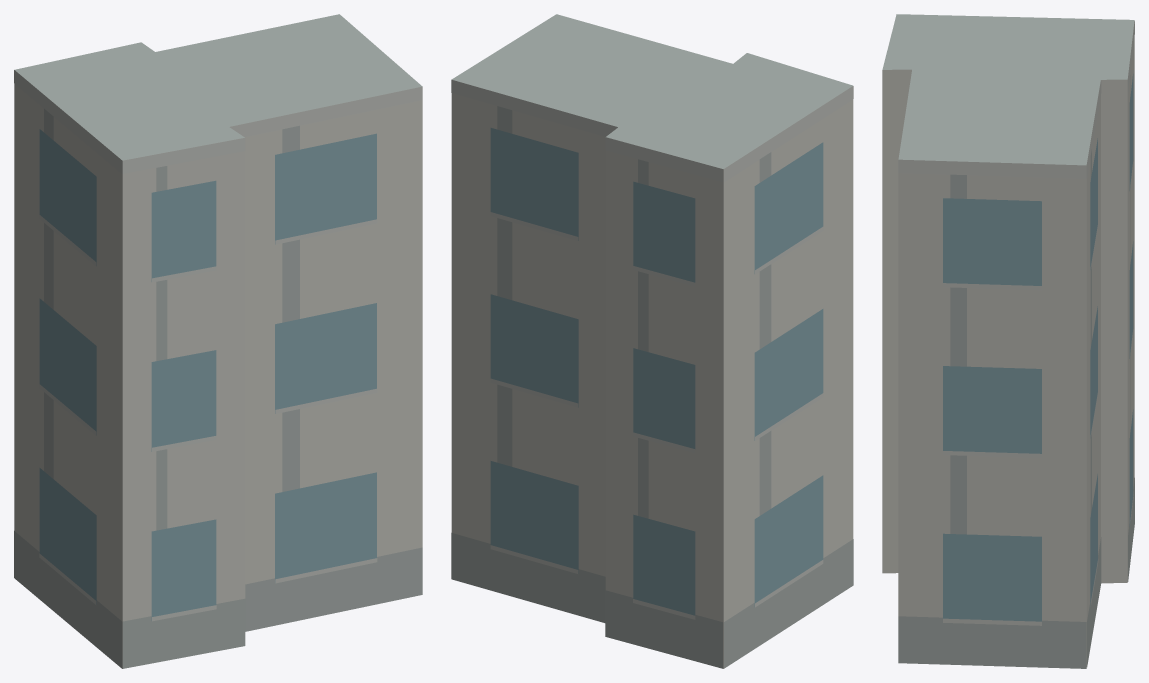
The model's file is survey-upis-32878621.glb.
The picture shows the model from 3 angles, left to right: view 1: azimuth 30°, elevation 25°; view 2: azimuth 150°, elevation 25°; view 3: azimuth 270°, elevation 25°; orthographic projection.
Visible parts, largest first — view 1: survey-upis-32878621.tmp; view 2: survey-upis-32878621.tmp; view 3: survey-upis-32878621.tmp.
Boxes of the visible parts, left/top/right/bottom form: survey-upis-32878621.tmp: left=14, top=14, right=422, bottom=668; survey-upis-32878621.tmp: left=451, top=14, right=853, bottom=668; survey-upis-32878621.tmp: left=882, top=14, right=1134, bottom=668.
Bounding box in the file's own units: 5.91 × 9.15 × 4.17.
